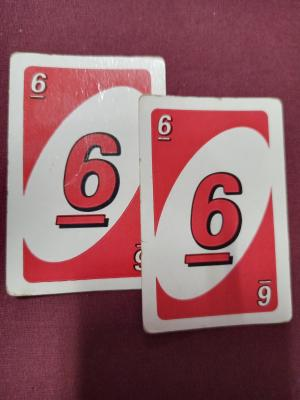num_6: (52, 123, 124, 231), (248, 273, 280, 312), (26, 65, 56, 104), (153, 107, 177, 148), (128, 238, 147, 275)
